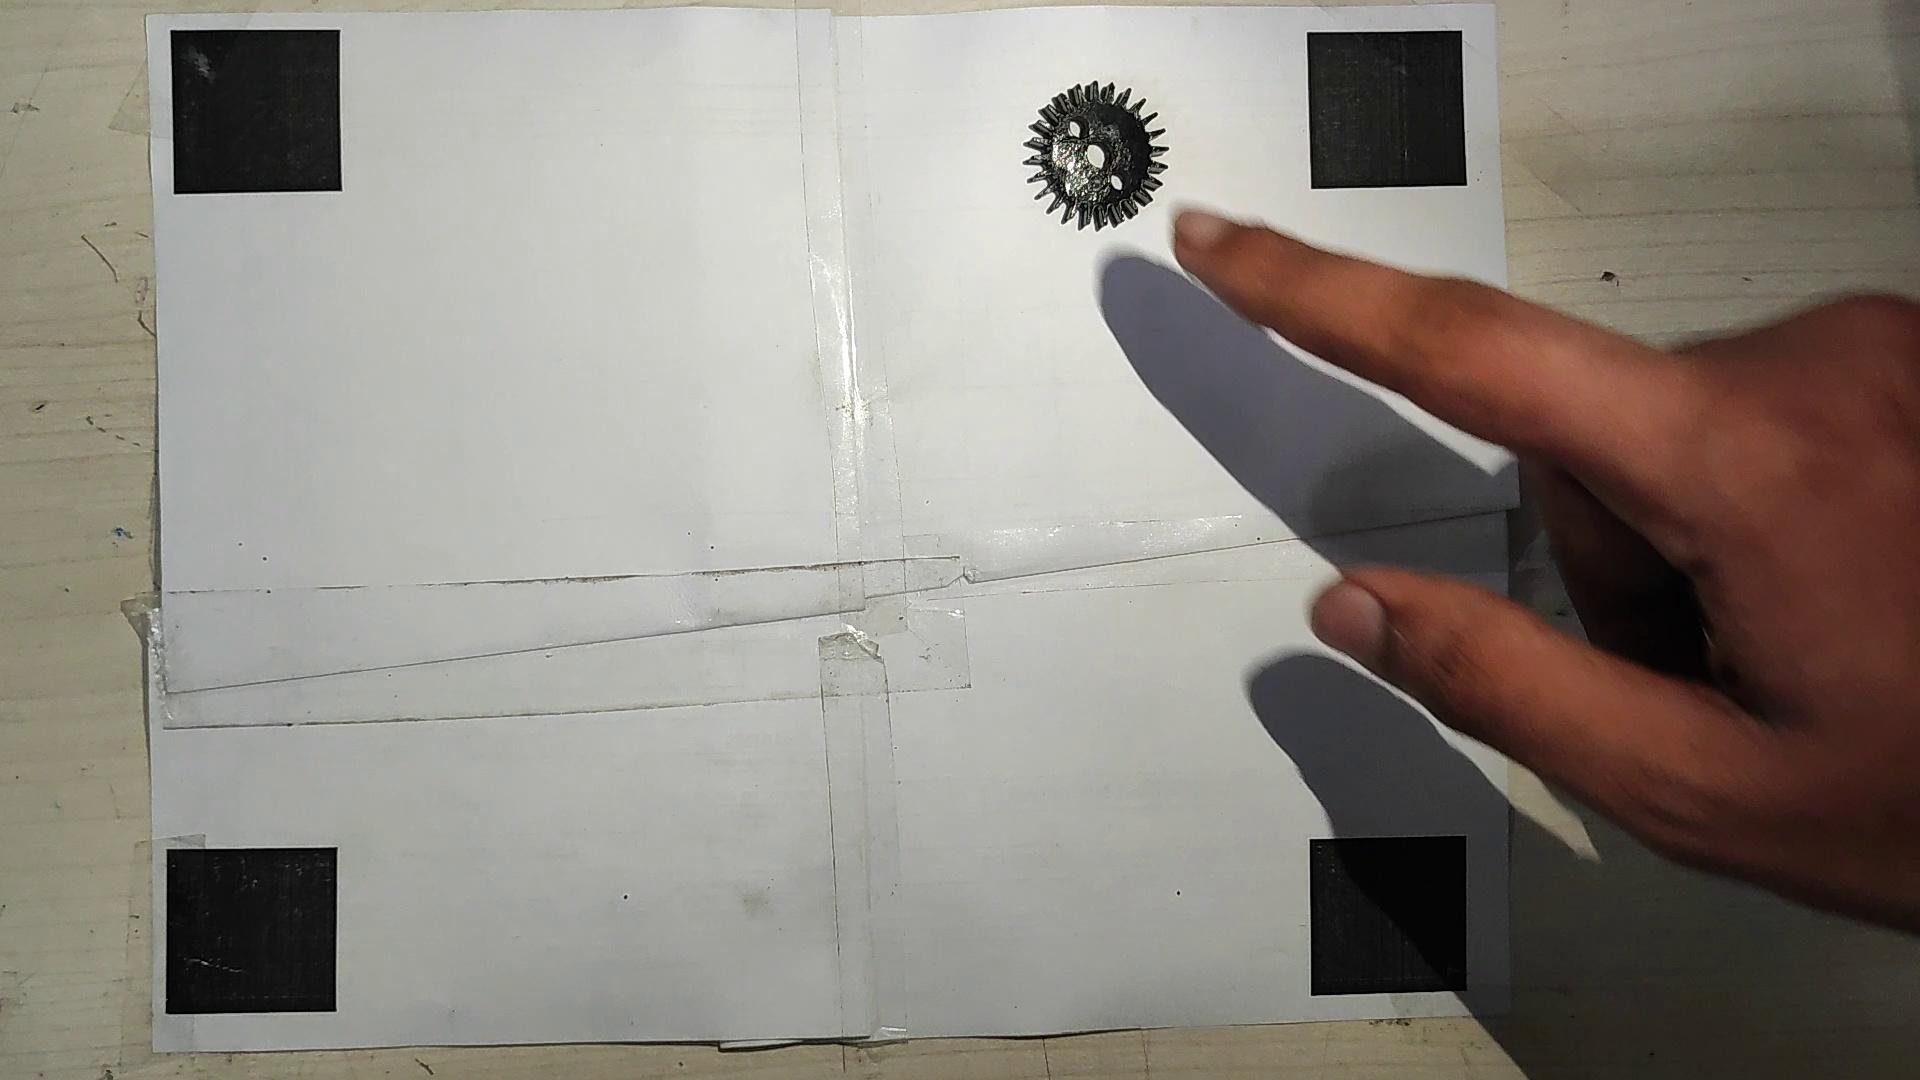Gear: (1015, 76, 1171, 232)
